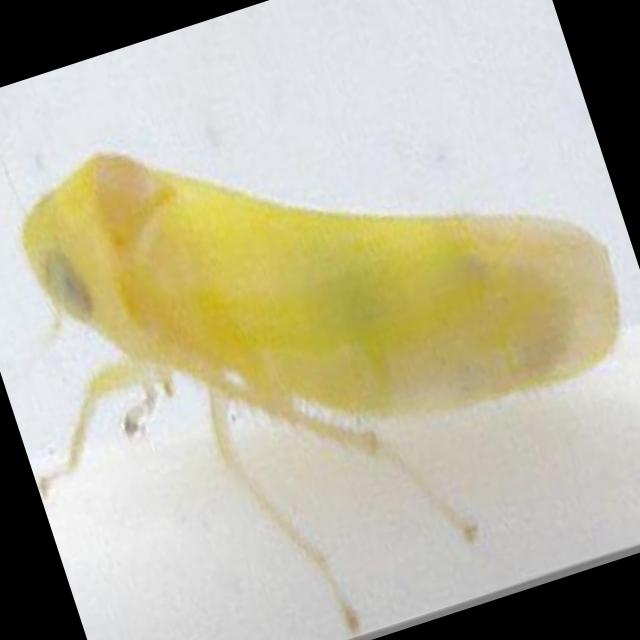green-leafhopper: (0, 9, 629, 526)
